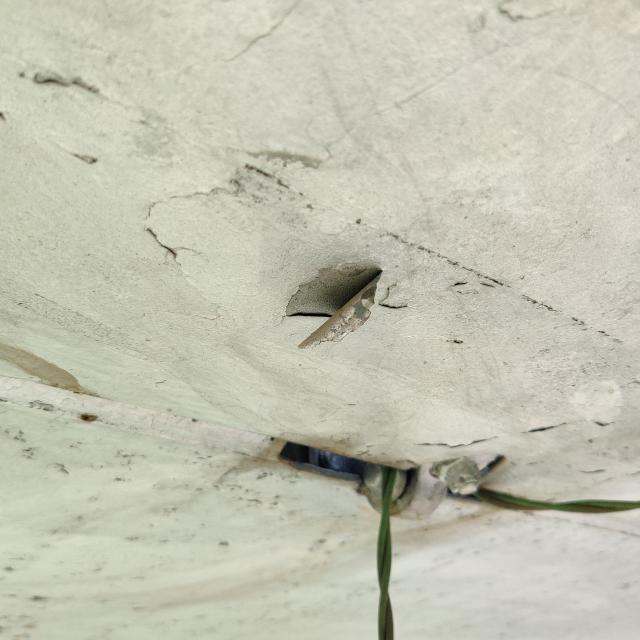paint-off: (256, 241, 393, 365)
